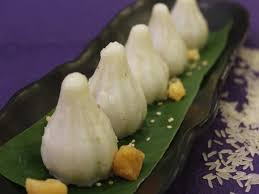modak: (48, 71, 117, 176), (87, 39, 156, 127), (122, 24, 179, 100), (144, 4, 189, 79)
